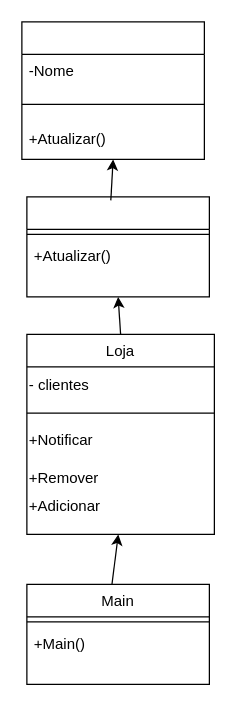
Image size: 236x706. Some labels were removed from this diagram. The box of each missing label's shape, as (x1, y1, x2, y2) in pixels:
Cliente: (21, 21, 204, 159)
Observer: (26, 196, 209, 297)
